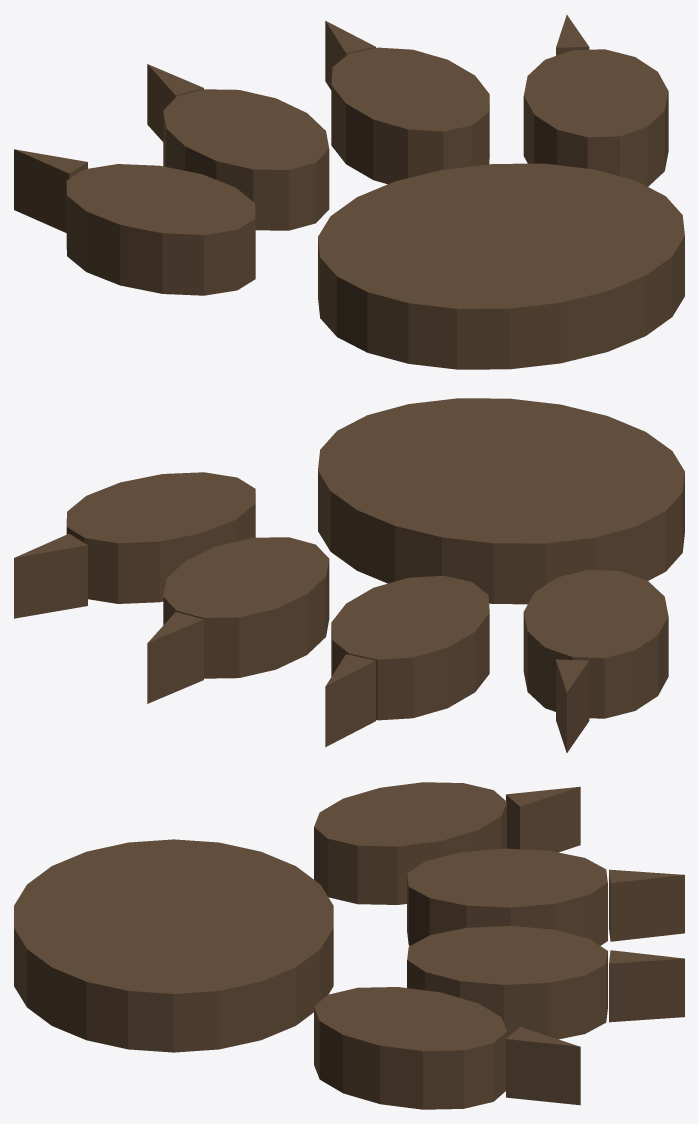
Rendered from Jackal_Print.fbx.
3 views of the same model, one above another, from view 1: azimuth 30°, elevation 25°; view 2: azimuth 150°, elevation 25°; view 3: azimuth 270°, elevation 25° (orthographic). The views are drawn at different scales.
Visible parts, largest first — view 1: Jackal_Print; view 2: Jackal_Print; view 3: Jackal_Print.
Boxes of the visible parts, x1,y1,x2,y2 form: Jackal_Print: (14, 14, 684, 369); Jackal_Print: (14, 398, 684, 753); Jackal_Print: (14, 782, 684, 1109).
Bounding box in the file's own units: 0.0591 × 0.006 × 0.0623.
